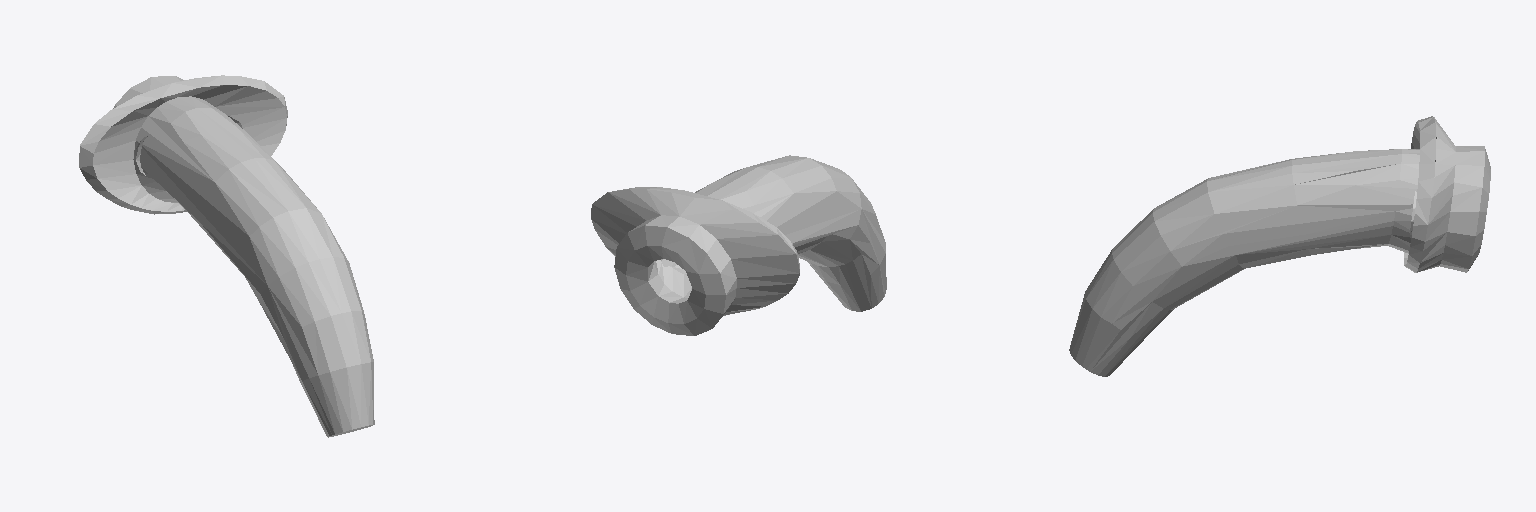
File: newmouth.obj
The picture shows the model from 3 angles: view 1: azimuth 30°, elevation 25°; view 2: azimuth 150°, elevation 25°; view 3: azimuth 270°, elevation 25°; orthographic projection.
Parts seen in each view (by area): view 1: cylinder234_default; view 2: cylinder234_default; view 3: cylinder234_default.
Part boxes in pixels (bbox=[...]): cylinder234_default: bbox=[79, 75, 374, 437]; cylinder234_default: bbox=[591, 155, 886, 335]; cylinder234_default: bbox=[1069, 116, 1490, 376].
Bounding box in the file's own units: 5.91 × 6.33 × 10.33.